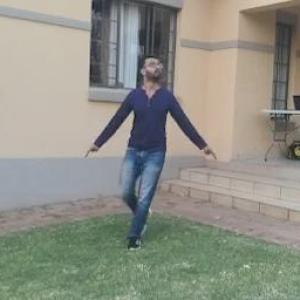land: (102, 65, 204, 226)
